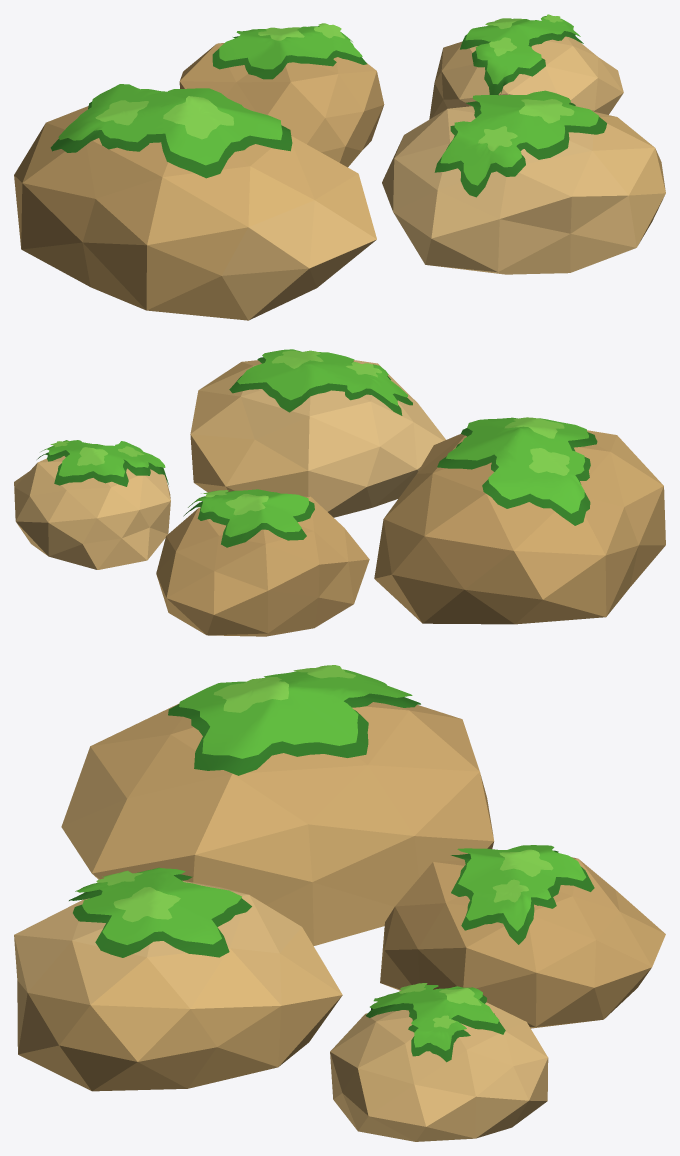
File: rock_8_clover.glb
3 renders of one model, top to bottom at view 1: azimuth 30°, elevation 25°; view 2: azimuth 150°, elevation 25°; view 3: azimuth 270°, elevation 25°, orthographic. The views are drawn at different scales.
Visible parts, largest first — view 1: rock_8_clover; view 2: rock_8_clover; view 3: rock_8_clover.
Boxes of the visible parts, x1=… form: rock_8_clover: x1=14, y1=14, x2=665, y2=320; rock_8_clover: x1=14, y1=349, x2=665, y2=636; rock_8_clover: x1=14, y1=665, x2=665, y2=1141.
Size of the model in its own units: 1.32 by 0.3582 by 1.02.
